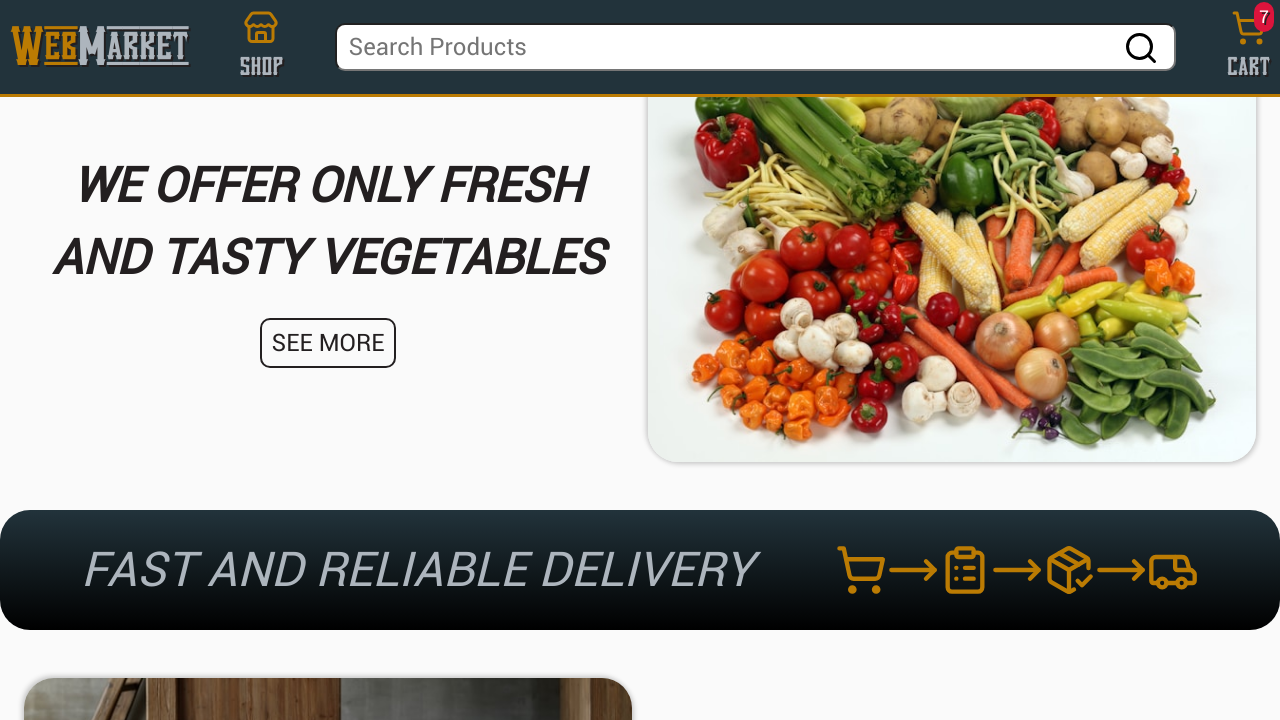
Test case: Home component › groceries section link redirects to the groceries category
(page scrolled)
Click the link "WE OFFER ONLY FRESH AND TASTY VEGETABLES SEE MORE".
click(640, 259)  # box [0,32,1279,486]
(page scrolled)
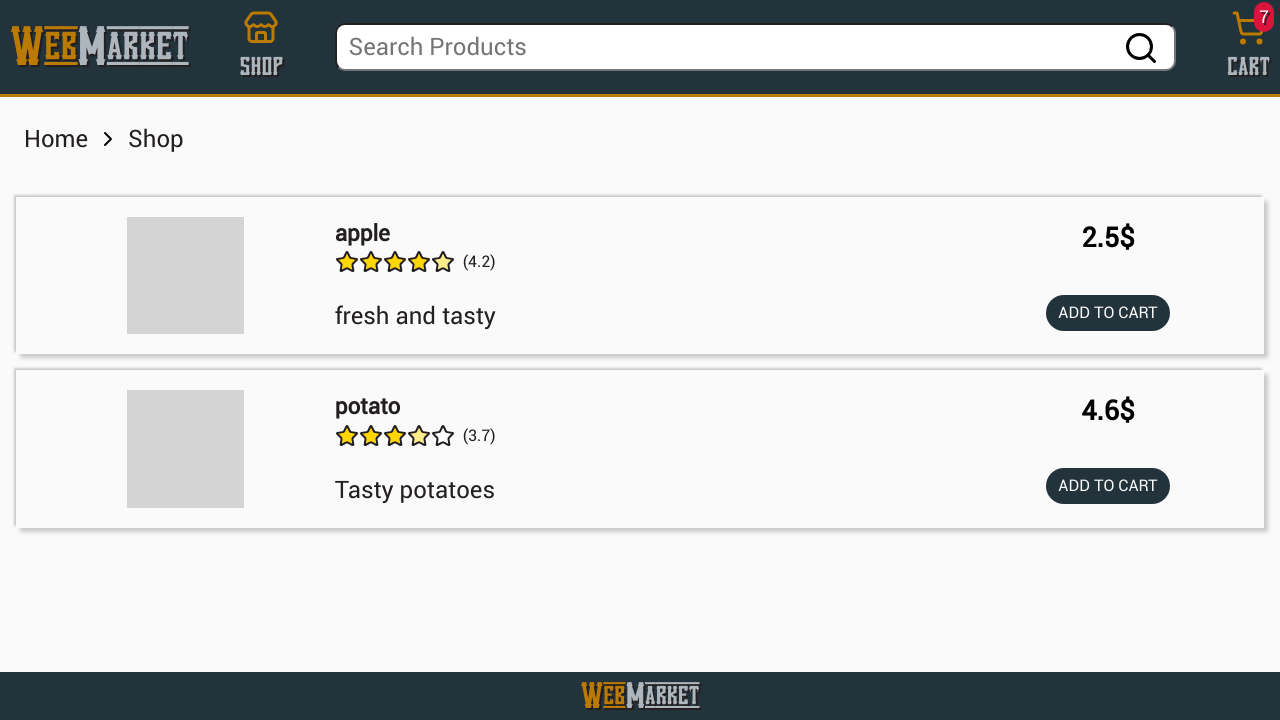
Result: the heading "apple" is shown at [335,220,390,246]
Result: the heading "potato" is shown at [335,393,400,419]
